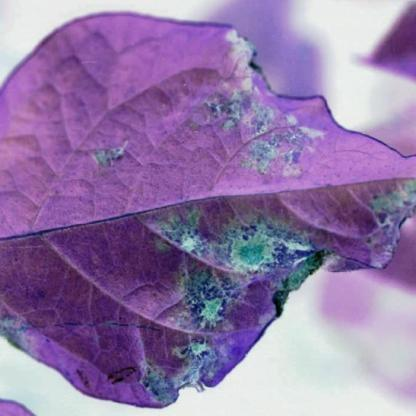potato leaf early blight: (4, 10, 415, 415)
